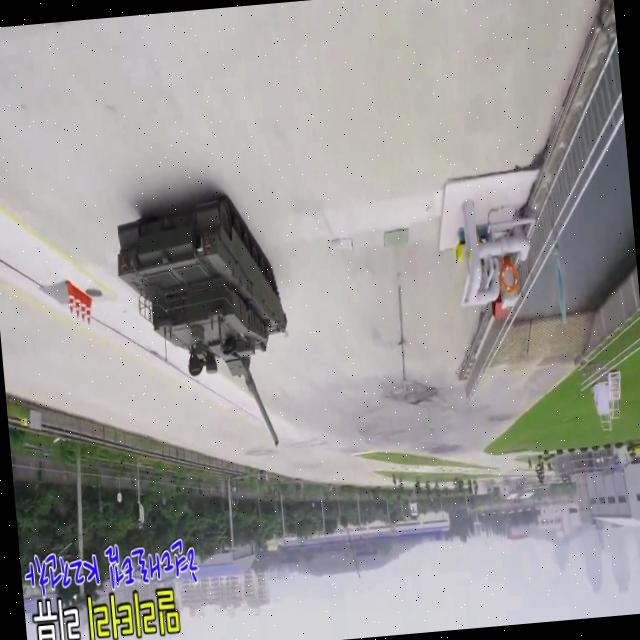korea tank: (112, 194, 296, 456)
